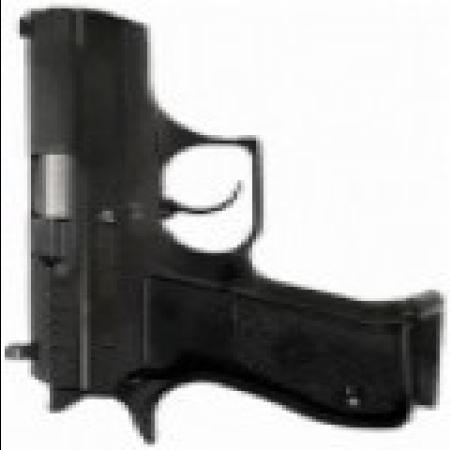Pistol: (7, 12, 432, 436)
